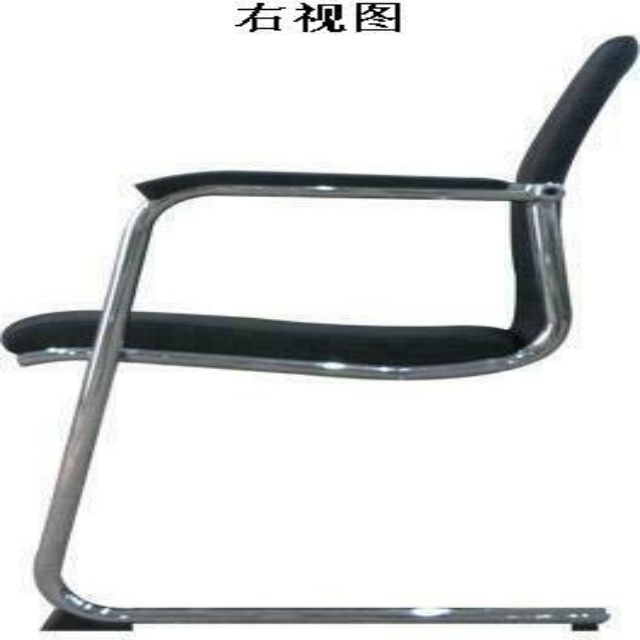obstacle: (2, 36, 635, 630)
